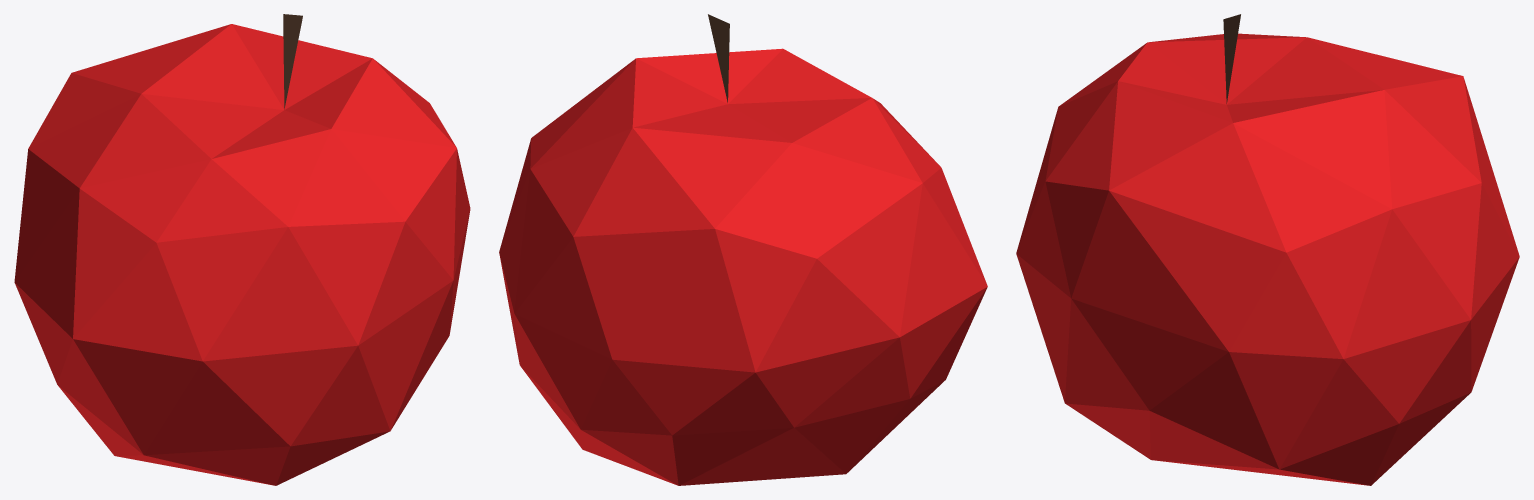
Rendered from 01_apple.fbx.
The picture shows the model from 3 angles, left to right: view 1: azimuth 30°, elevation 25°; view 2: azimuth 150°, elevation 25°; view 3: azimuth 270°, elevation 25°; orthographic projection. The views are drawn at different scales.
Parts seen in each view (by area): view 1: Icosphere; view 2: Icosphere; view 3: Icosphere.
Boxes of the visible parts, bbox=[...] form: Icosphere: bbox=[14, 14, 470, 485]; Icosphere: bbox=[499, 14, 987, 485]; Icosphere: bbox=[1016, 14, 1519, 485].
Size of the model in its own units: 202 by 193 by 197.
